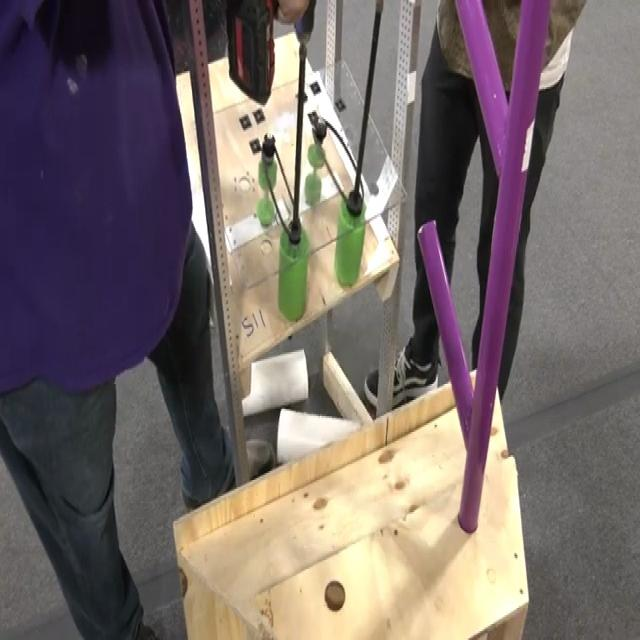Coral: (240, 347, 309, 418), (276, 407, 361, 462)
